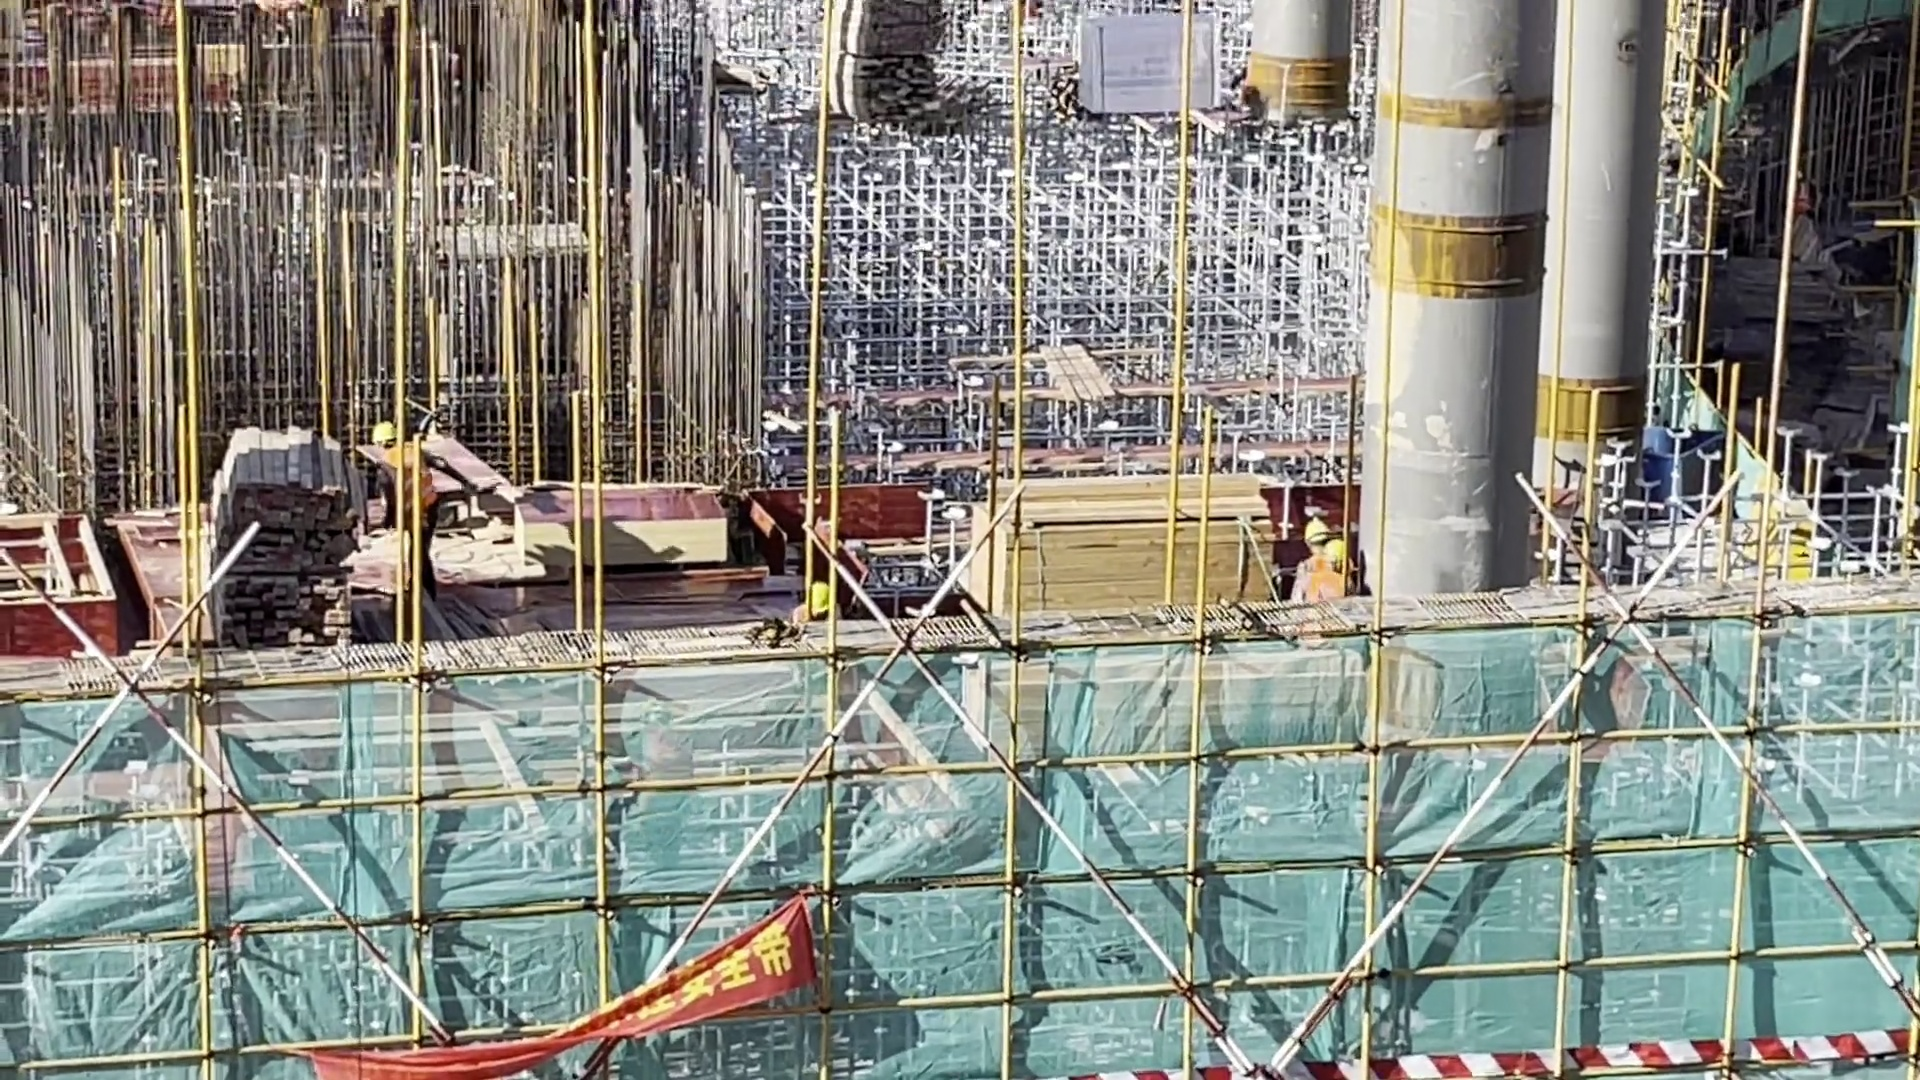helmet: (1303, 515, 1351, 576), (800, 579, 841, 615), (361, 410, 406, 442)
hopper: (1638, 419, 1744, 532)
person: (1298, 518, 1356, 608)
slogan: (297, 891, 842, 1072)
wood: (963, 463, 1281, 608), (203, 415, 366, 660)
